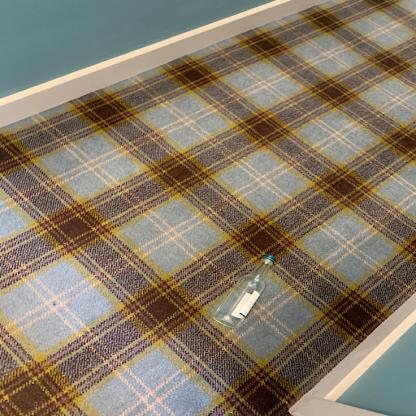trash: (212, 254, 276, 329)
